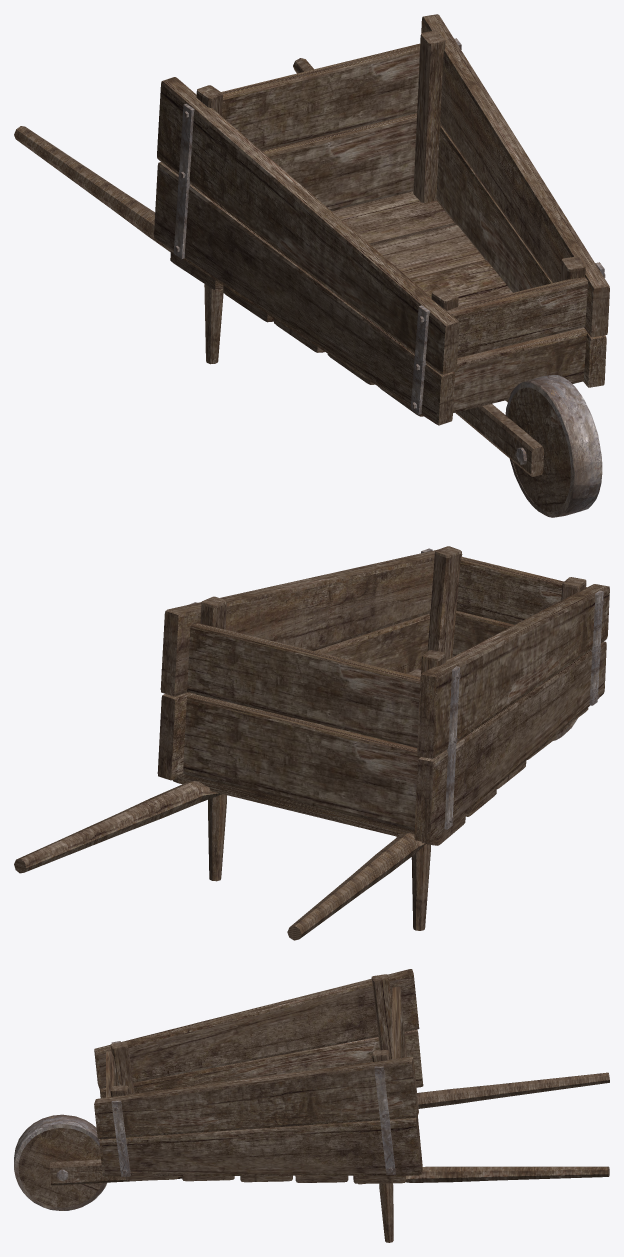
File: Wheelbarrow.fbx
3 renders of one model, top to bottom at view 1: azimuth 30°, elevation 25°; view 2: azimuth 150°, elevation 25°; view 3: azimuth 270°, elevation 25°, orthographic. The views are drawn at different scales.
Visible parts, largest first — view 1: Board_LOD0; view 2: Board_LOD0; view 3: Board_LOD0.
Part boxes in pixels (bbox=[...]): Board_LOD0: bbox=[14, 14, 609, 517]; Board_LOD0: bbox=[14, 546, 609, 940]; Board_LOD0: bbox=[14, 969, 609, 1242].
Size of what is drawn, in the model's own units: 83.91 by 76.11 by 214.
